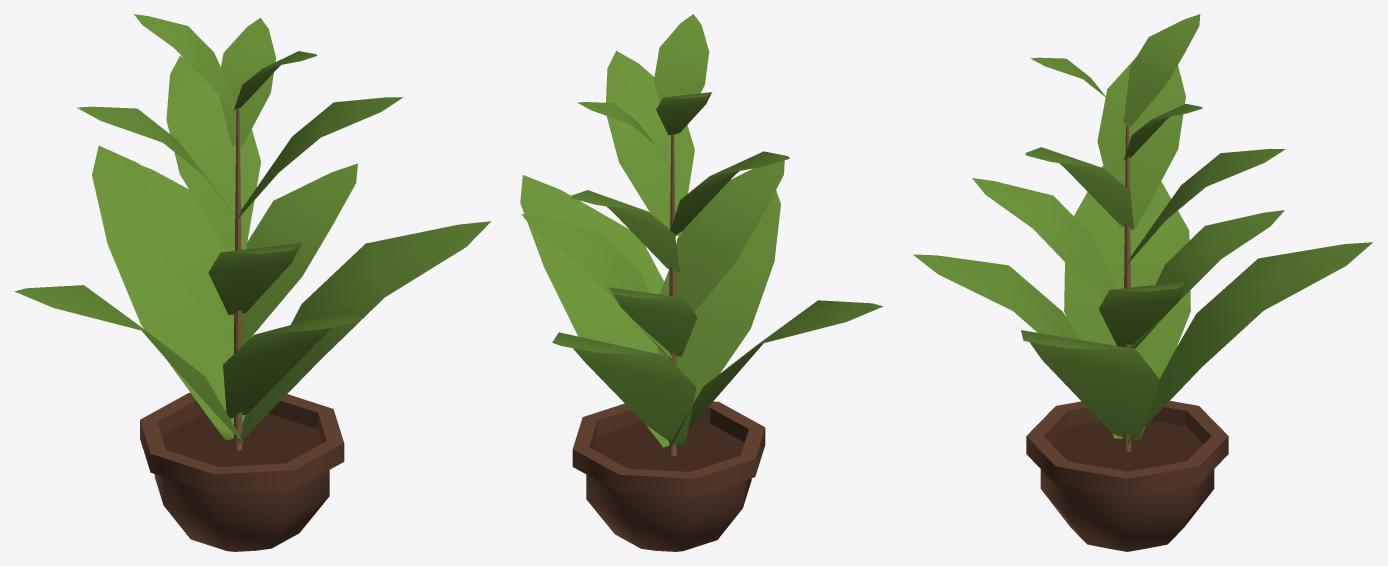
Rendered from SM_PotPlant.fbx.
The picture shows the model from 3 angles, left to right: view 1: azimuth 30°, elevation 25°; view 2: azimuth 150°, elevation 25°; view 3: azimuth 270°, elevation 25°; orthographic projection. The views are drawn at different scales.
Parts seen in each view (by area): view 1: SM_PotPlant; view 2: SM_PotPlant; view 3: SM_PotPlant.
Boxes of the visible parts, left/top/right/bottom form: SM_PotPlant: left=14, top=14, right=490, bottom=551; SM_PotPlant: left=520, top=14, right=882, bottom=551; SM_PotPlant: left=913, top=14, right=1372, bottom=551.
Bounding box in the file's own units: 1.25 × 1.44 × 1.21.
1 material, 1 textured.
